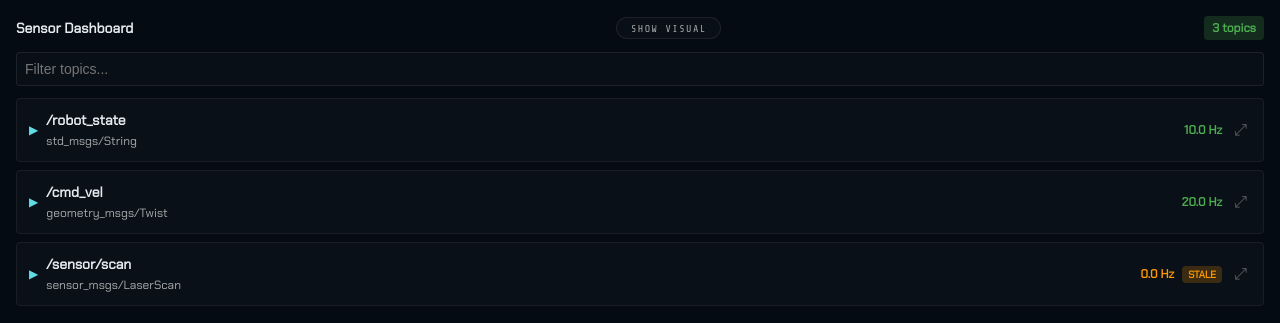
Test: TopicInspector › filters the topic list by search text
The width and height of the screenshot is (1280, 323).
Type "cmd_vel" into the field with placeholder "Filter topics..." at (640, 69), box top-left (16, 52), bottom-right (1264, 86)
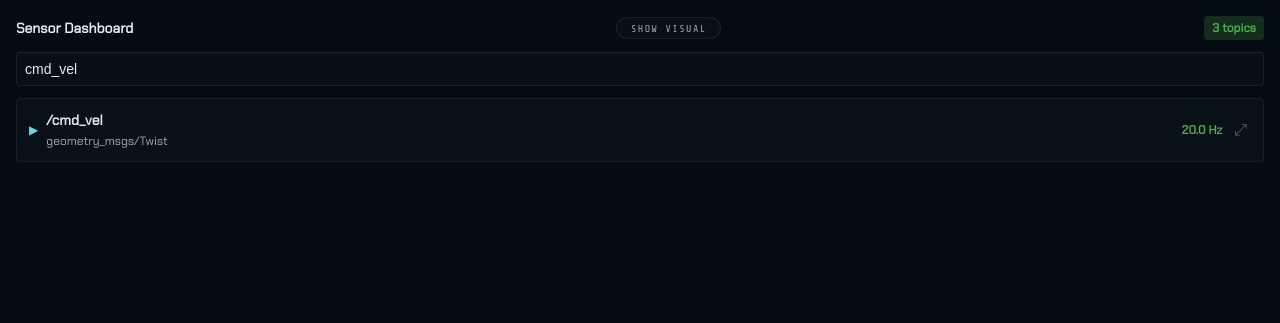
Expected: the text "/cmd_vel" is shown, top-left (46, 111), bottom-right (103, 129)
Result: the button "/robot_state" is gone
